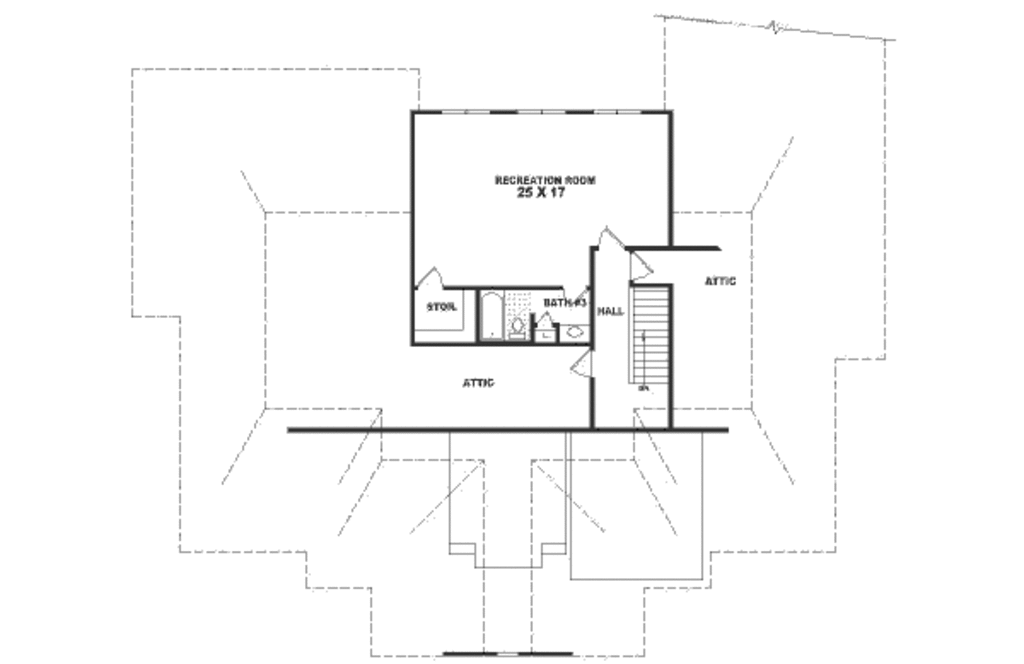door: (414, 265, 451, 291), (569, 346, 593, 383), (557, 280, 589, 303), (631, 252, 655, 281), (600, 224, 624, 251), (538, 312, 556, 323)
large_sink: (510, 309, 525, 343)
small_sink: (565, 322, 588, 341)
stairs: (626, 286, 673, 391)
tub: (482, 292, 503, 342)
window: (435, 105, 493, 116), (521, 104, 566, 116), (593, 109, 640, 116)
